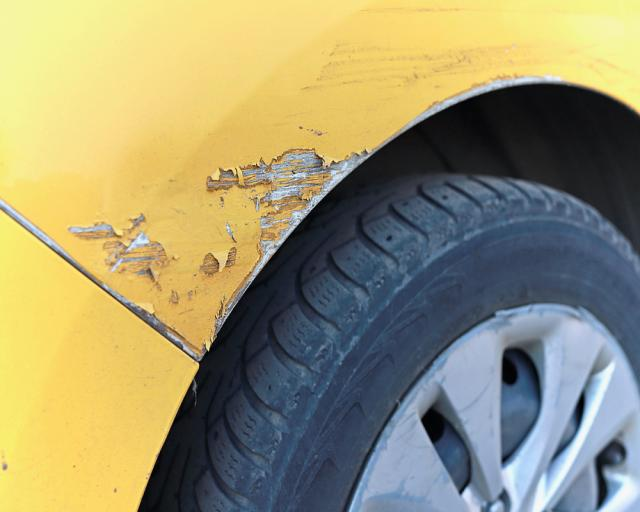scratch: (43, 0, 586, 359)
